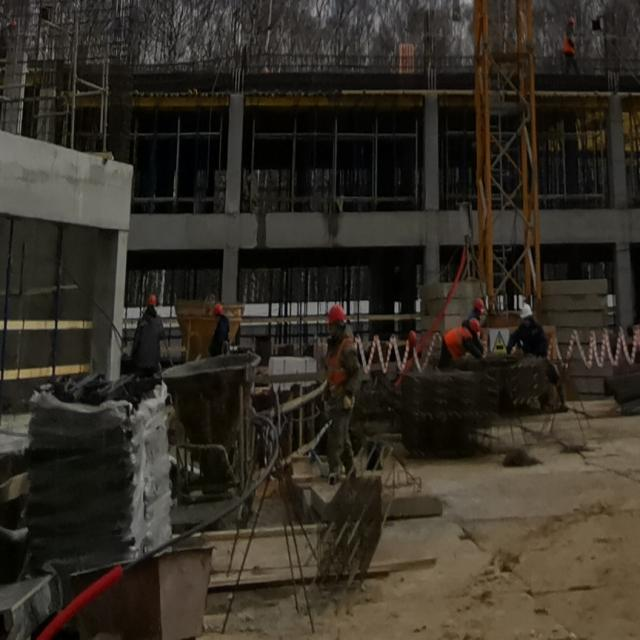Helmet: (328, 304, 347, 340), (521, 305, 534, 329), (468, 319, 482, 337), (474, 299, 485, 316), (214, 304, 225, 321), (148, 296, 158, 310), (569, 18, 578, 27)
